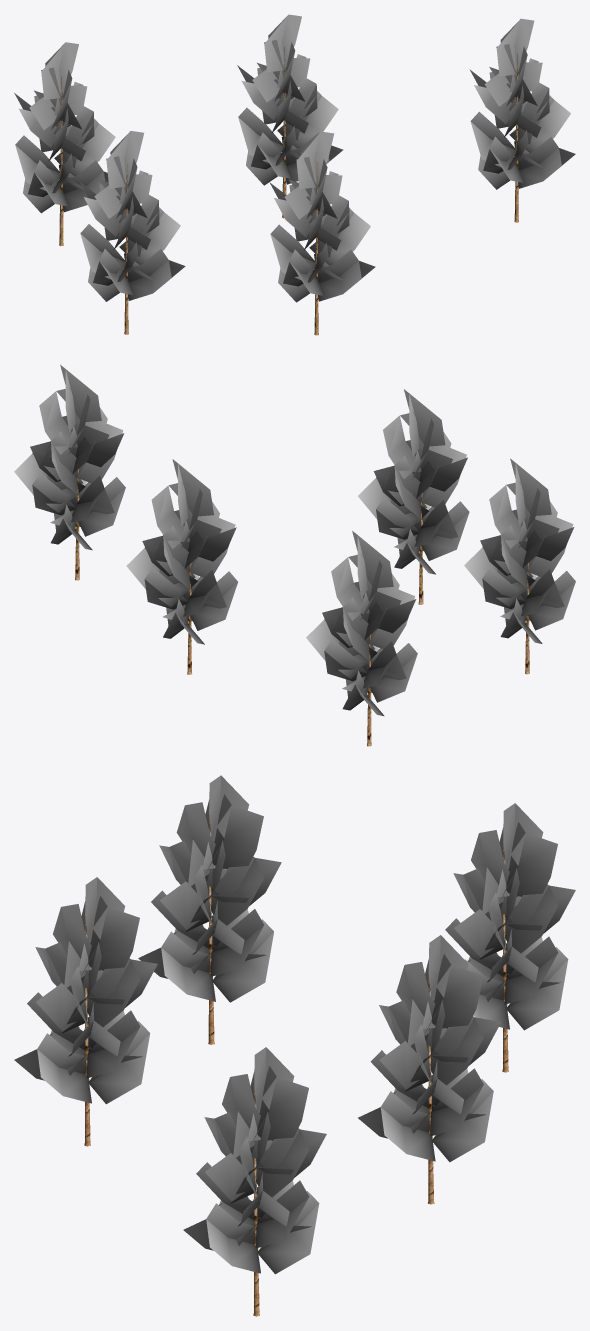
File: MiniWorld Trees.fbx
3 views of the same model, one above another, from view 1: azimuth 30°, elevation 25°; view 2: azimuth 150°, elevation 25°; view 3: azimuth 270°, elevation 25° (orthographic). The views are drawn at different scales.
Parts seen in each view (by area): view 1: Trees; view 2: Trees; view 3: Trees.
Boxes of the visible parts, box(x1,y1,x2,y2) form: Trees: box(14, 14, 575, 335); Trees: box(14, 364, 575, 746); Trees: box(14, 775, 575, 1316).
Size of the model in its own units: 5139 by 1991 by 3637.
